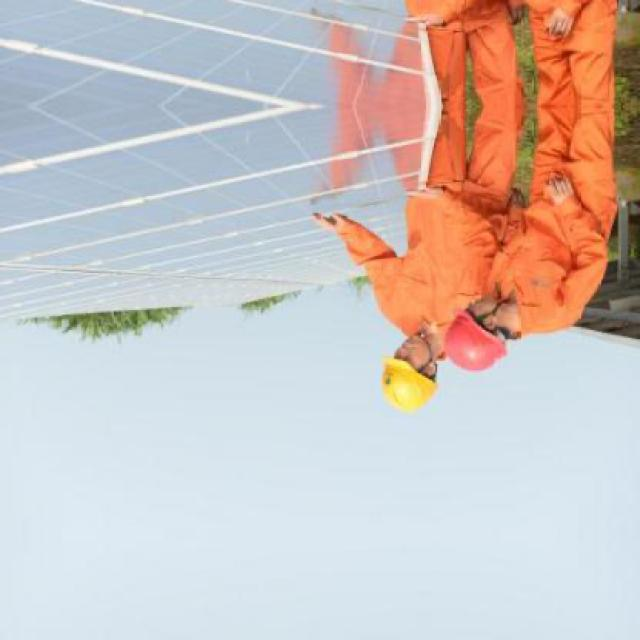con casco: (364, 343, 435, 414), (426, 307, 496, 377)
